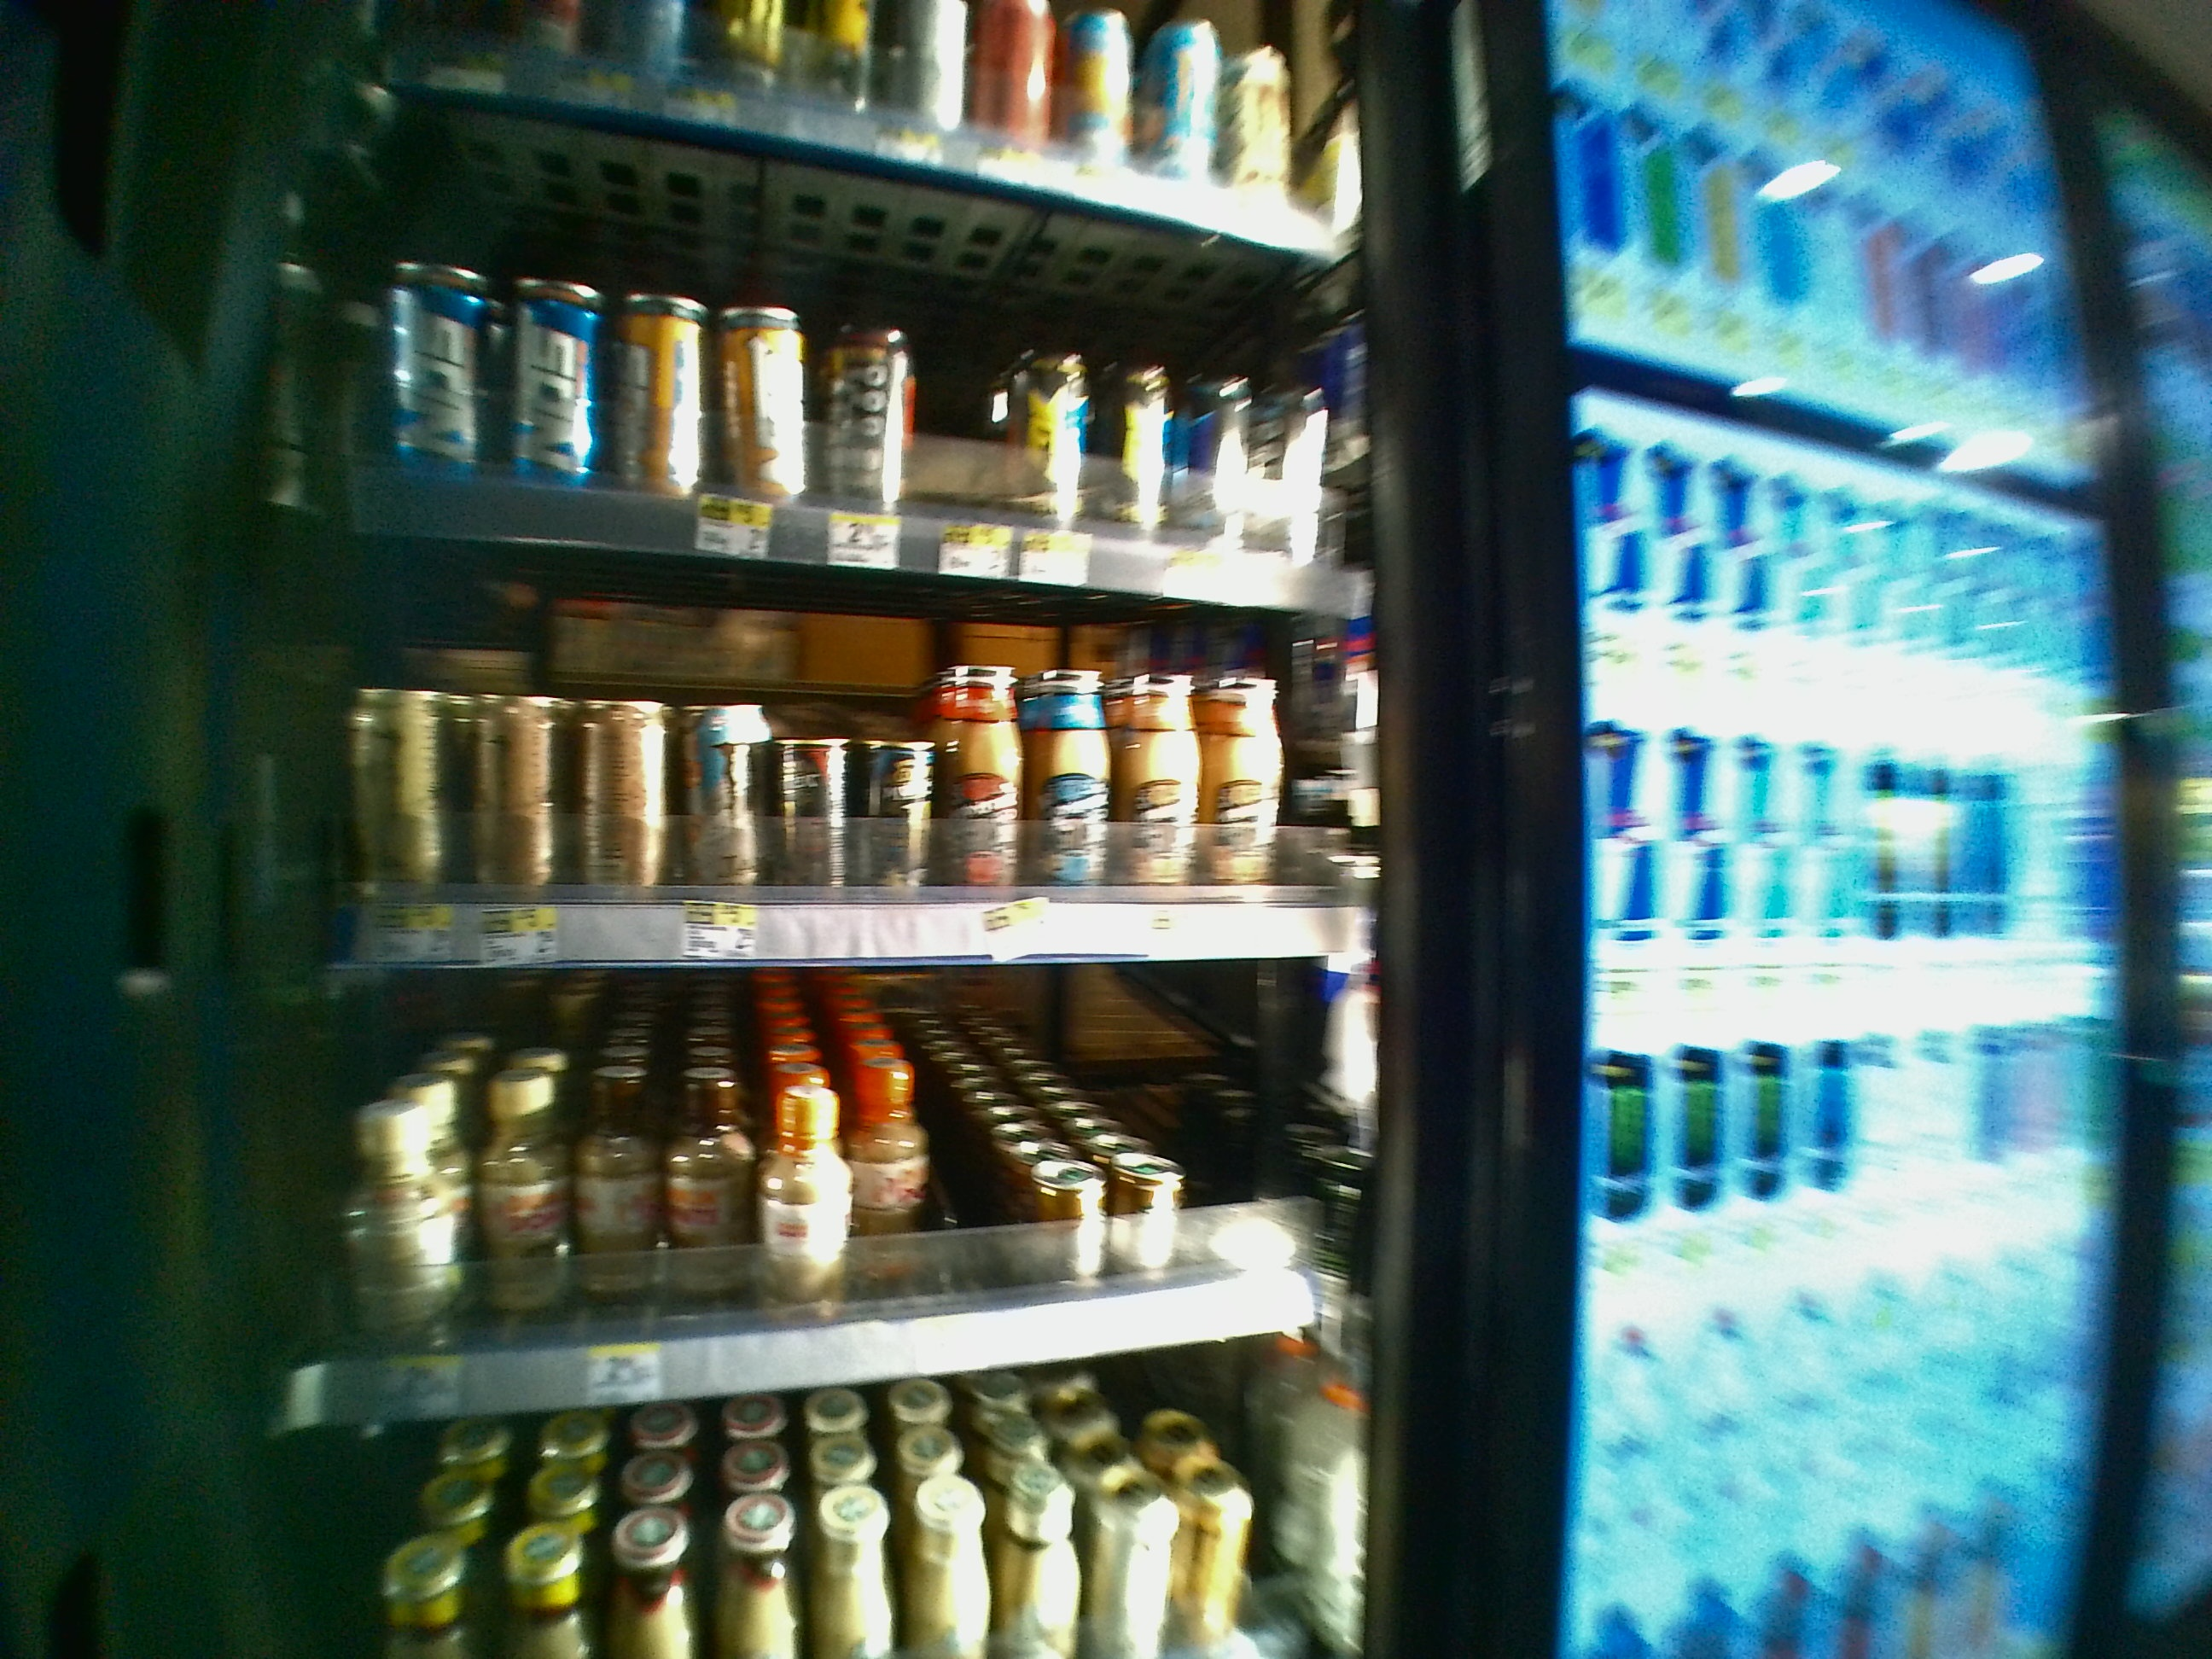shelf: (287, 964, 1388, 1387)
